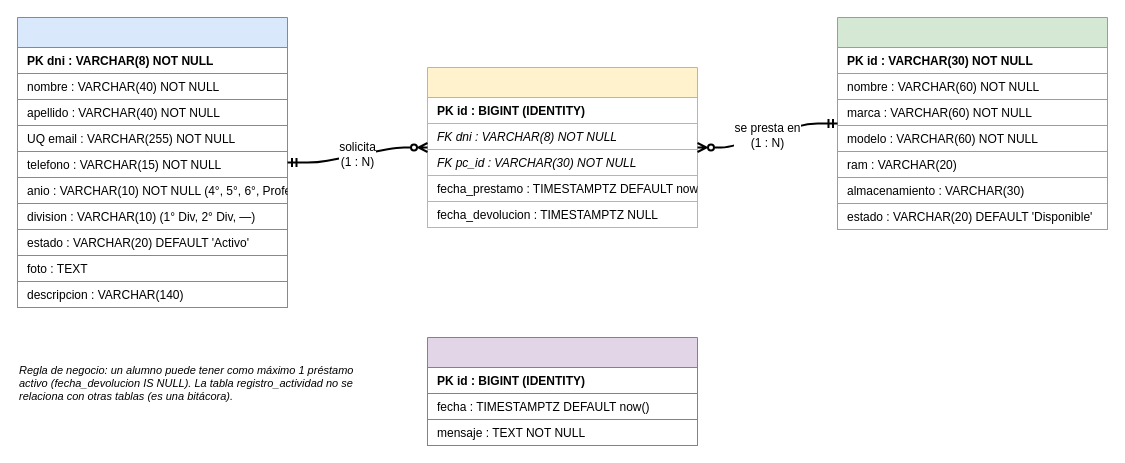
Some shapes in this 1125 by 463 pixel diagram are drawn without their labels. Each missing label, with the box of its shape:
alumnos: (16, 16, 288, 308)
computadoras: (836, 16, 1108, 230)
prestamos: (426, 66, 698, 228)
registro_actividad: (426, 336, 698, 446)
